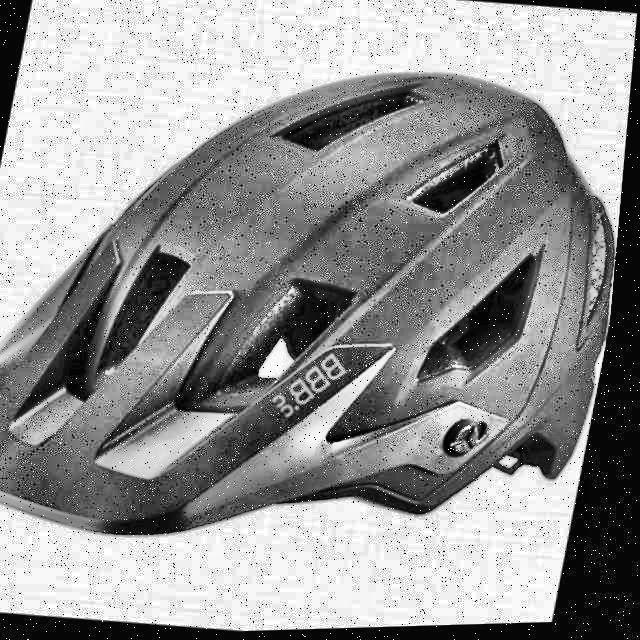Helmet: (0, 16, 638, 599)
